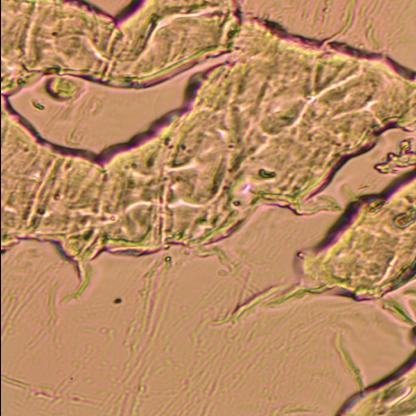Normal: (0, 0, 416, 282)
